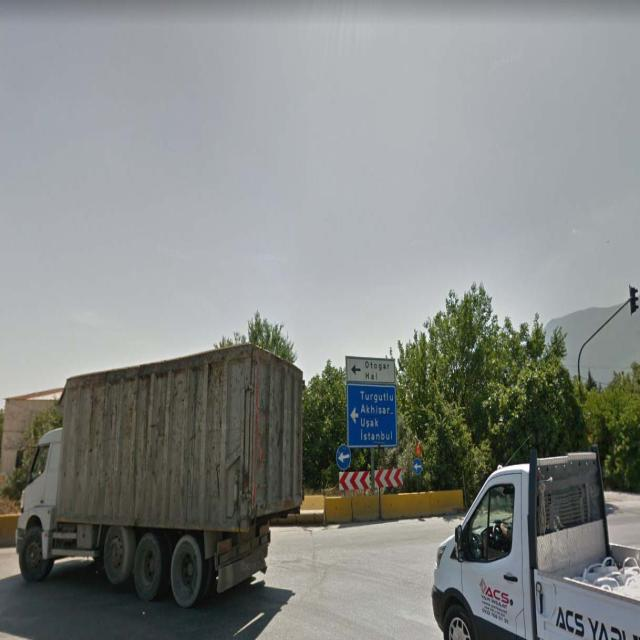sol: (336, 445, 353, 470), (413, 458, 423, 474)
